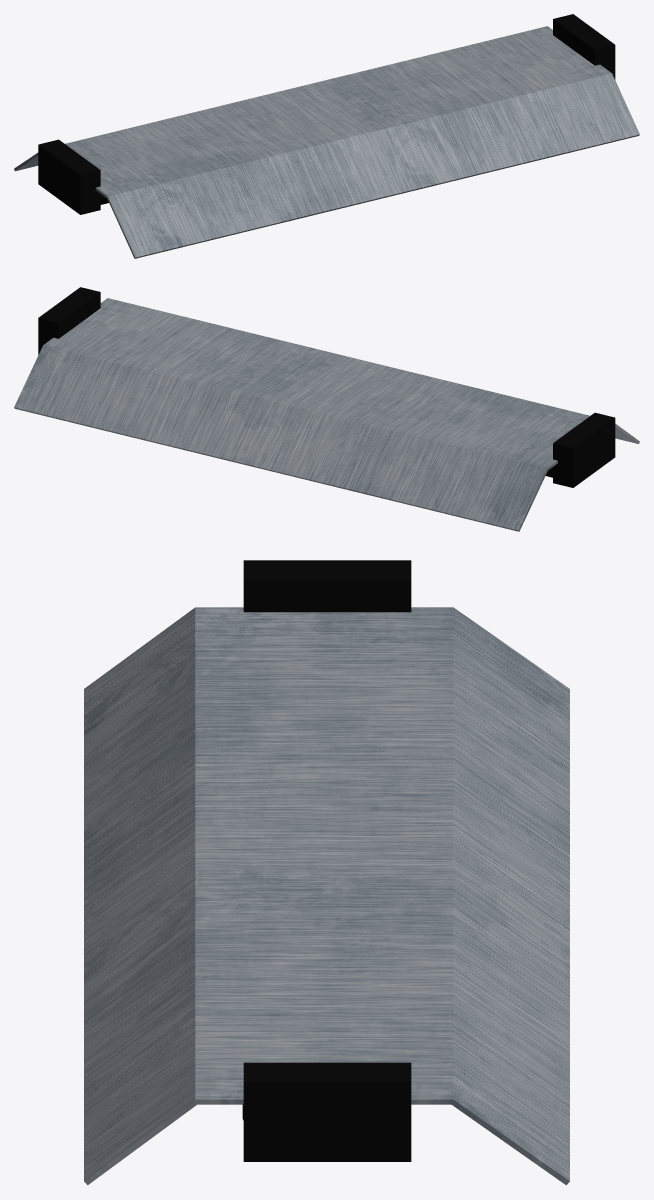
The model's file is Ceiling Light.fbx.
3 views of the same model, one above another, from view 1: azimuth 30°, elevation 25°; view 2: azimuth 150°, elevation 25°; view 3: azimuth 270°, elevation 25° (orthographic). The views are drawn at different scales.
Parts seen in each view (by area): view 1: Plane.100, Lamps.007; view 2: Plane.100, Lamps.007; view 3: Plane.100, Lamps.007.
Boxes of the visible parts, bbox=[...] form: Plane.100: bbox=[14, 26, 639, 258]; Lamps.007: bbox=[38, 14, 615, 214]; Plane.100: bbox=[14, 298, 639, 531]; Lamps.007: bbox=[38, 287, 615, 487]; Plane.100: bbox=[84, 607, 569, 1185]; Lamps.007: bbox=[242, 560, 411, 1161].
Size of the model in its own units: 212 by 22.32 by 83.43.
3 materials, 1 textured.
